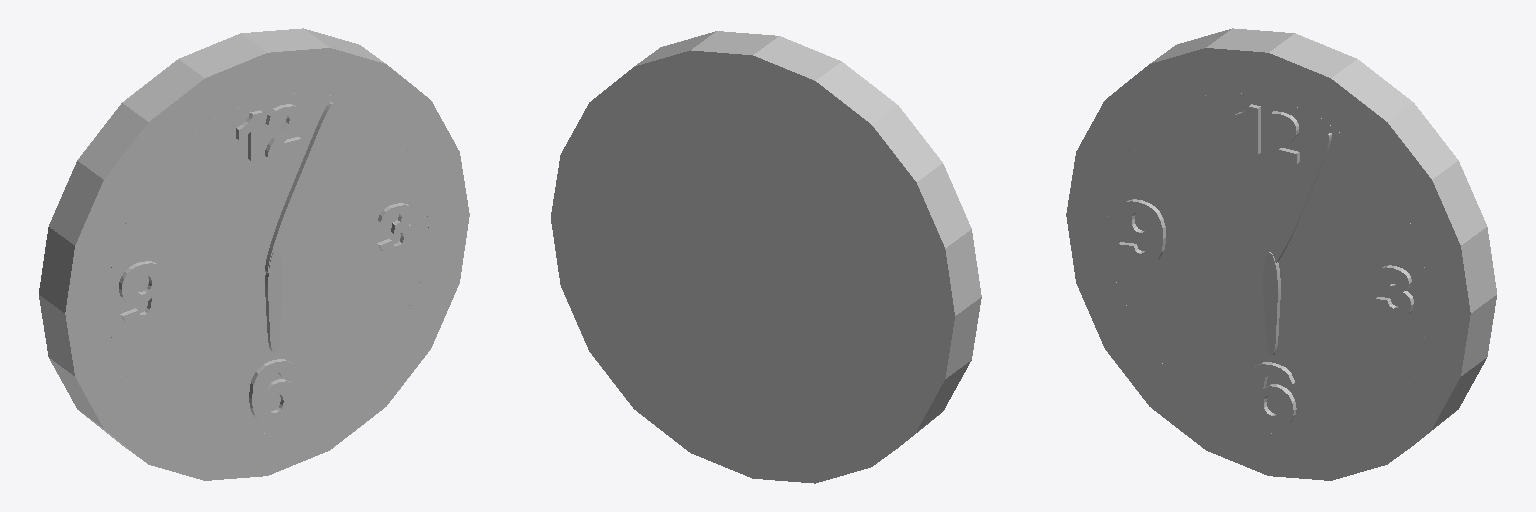
Rendered from clock.obj.
The picture shows the model from 3 angles: view 1: azimuth 30°, elevation 25°; view 2: azimuth 150°, elevation 25°; view 3: azimuth 330°, elevation 25°; orthographic projection.
Parts seen in each view (by area): view 1: obj_0; view 2: obj_0; view 3: obj_0.
Part boxes in pixels (x1,y1,x2,y2): obj_0: (39, 28, 469, 480); obj_0: (551, 31, 981, 483); obj_0: (1066, 28, 1496, 480).
Bounding box in the file's own units: 79 × 79 × 10.2.